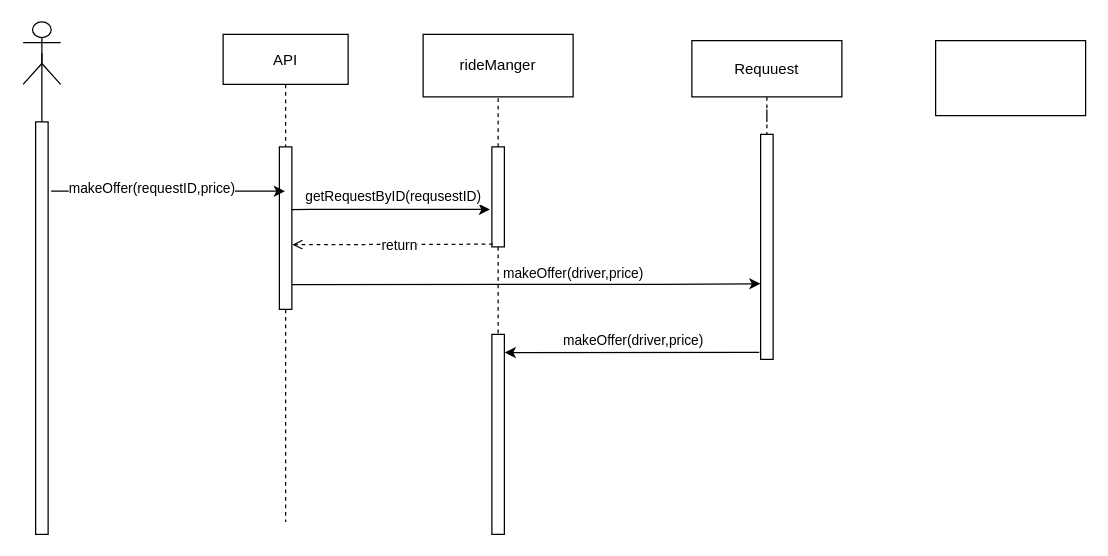
Some shapes in this 1108 by 556 pixel diagram are drawn without their labels. The shapes that lost their labels are listed below. From the top down, each one's centre as x and y in pixels, then its label:
pixel 41 52: Driver
pixel 1010 77: DiscontManger
